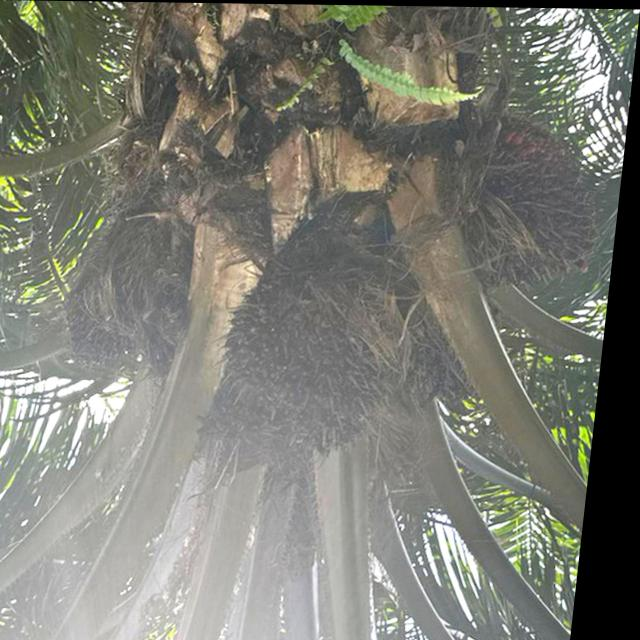ripe: (201, 224, 447, 474)
